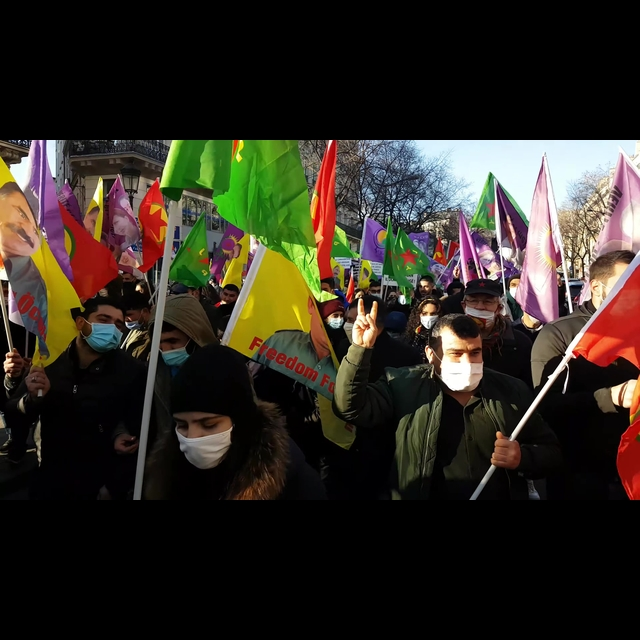ZI: (342, 295, 385, 352)
